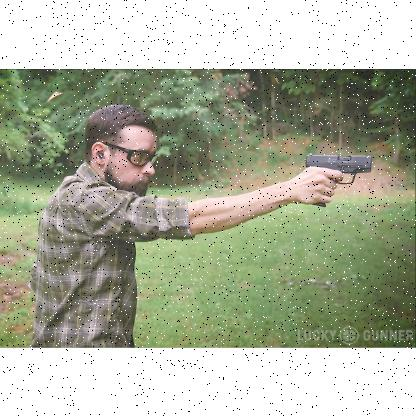gun: (302, 150, 372, 210)
